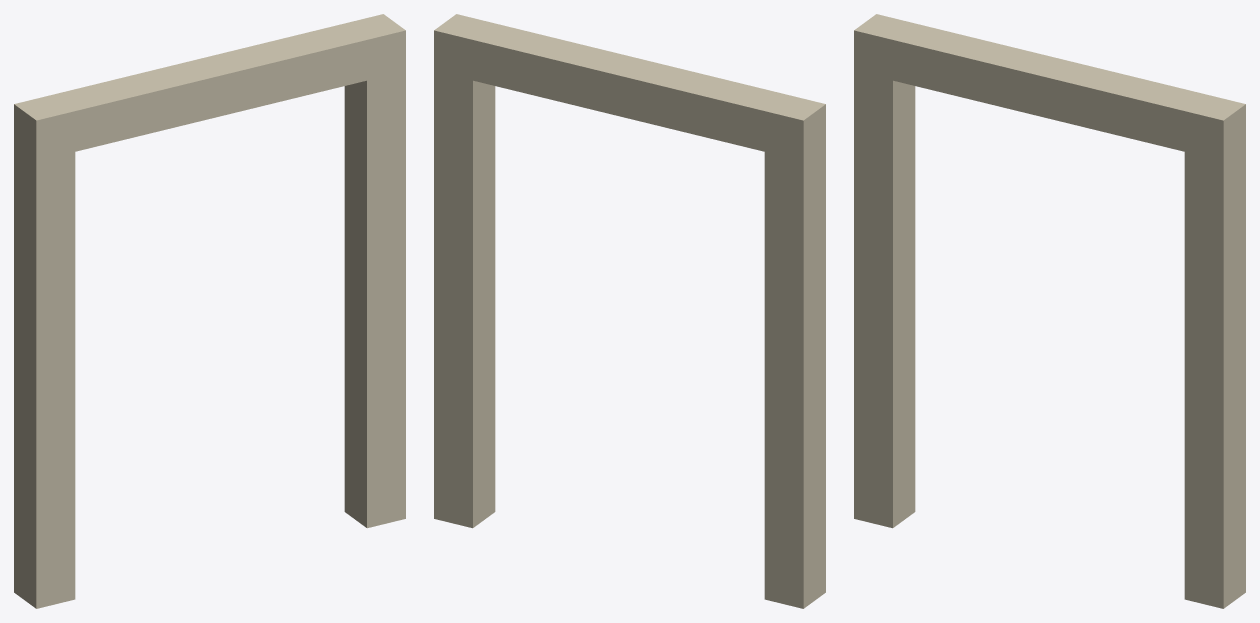
The model's file is sports-16.glb.
3 views of the same model, side by side, from view 1: azimuth 30°, elevation 25°; view 2: azimuth 150°, elevation 25°; view 3: azimuth 330°, elevation 25° (orthographic).
Parts seen in each view (by area): view 1: Goal post; view 2: Goal post; view 3: Goal post.
Boxes of the visible parts, x1,y1,x2,y2 form: Goal post: (14, 14, 405, 608); Goal post: (434, 14, 825, 608); Goal post: (854, 14, 1245, 608).
Bounding box in the file's own units: 1.52 × 1.92 × 0.16.
